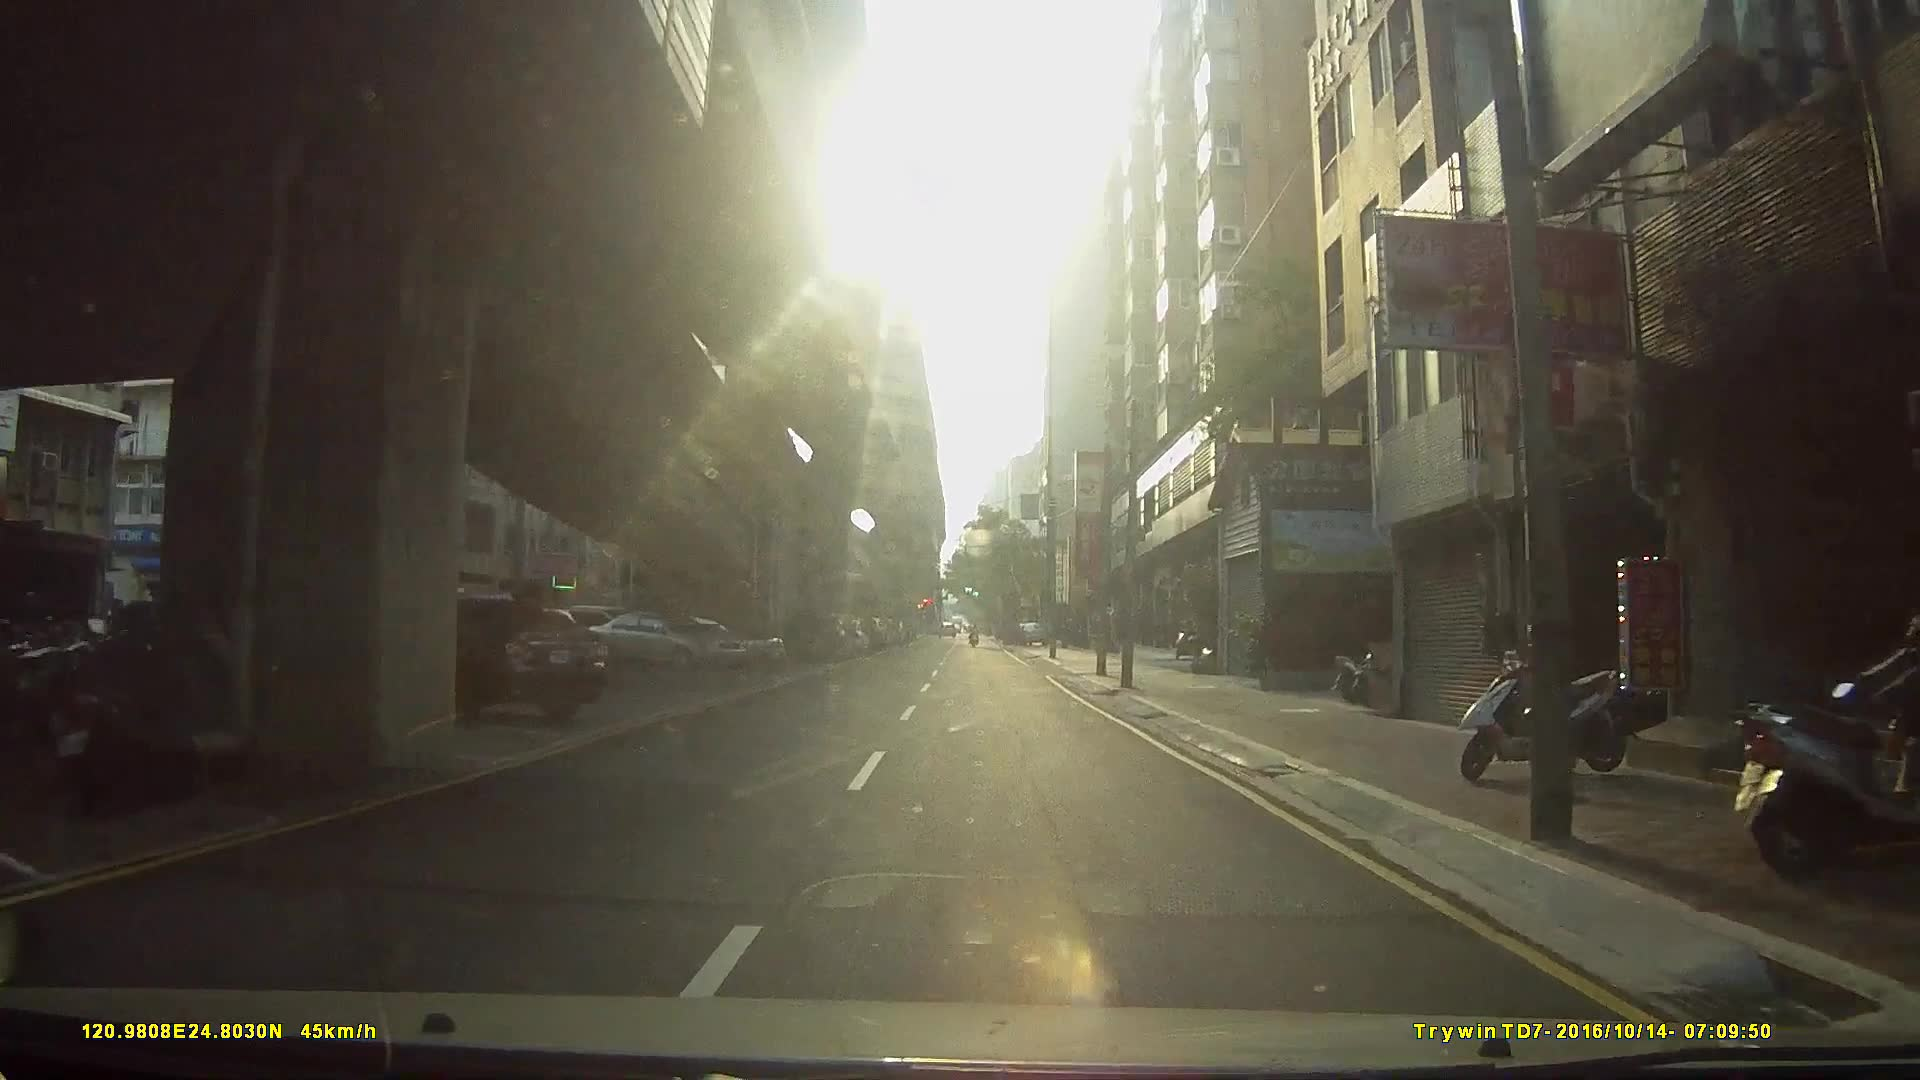vehicle: (372, 599, 607, 728), (585, 613, 750, 674), (785, 609, 847, 666)
